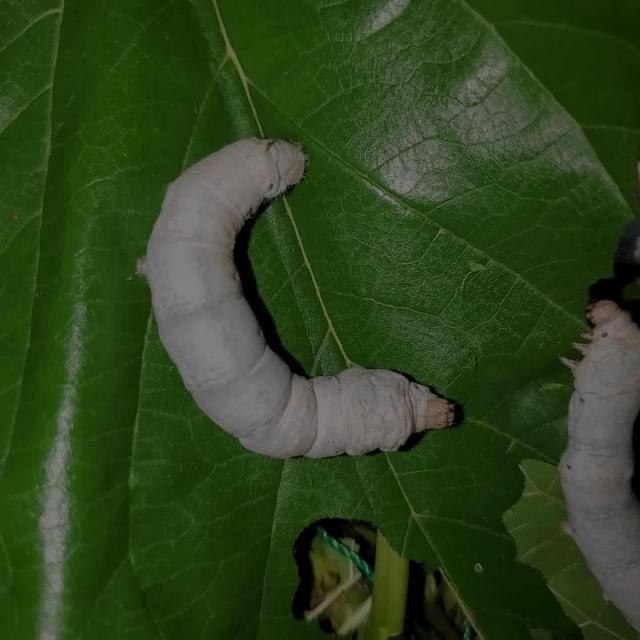Healthy: (109, 100, 468, 508)
